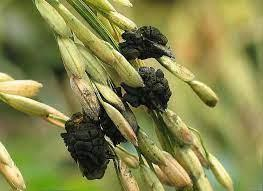False Smut: (61, 111, 117, 181), (117, 64, 175, 115), (96, 85, 141, 146), (116, 20, 171, 63)
